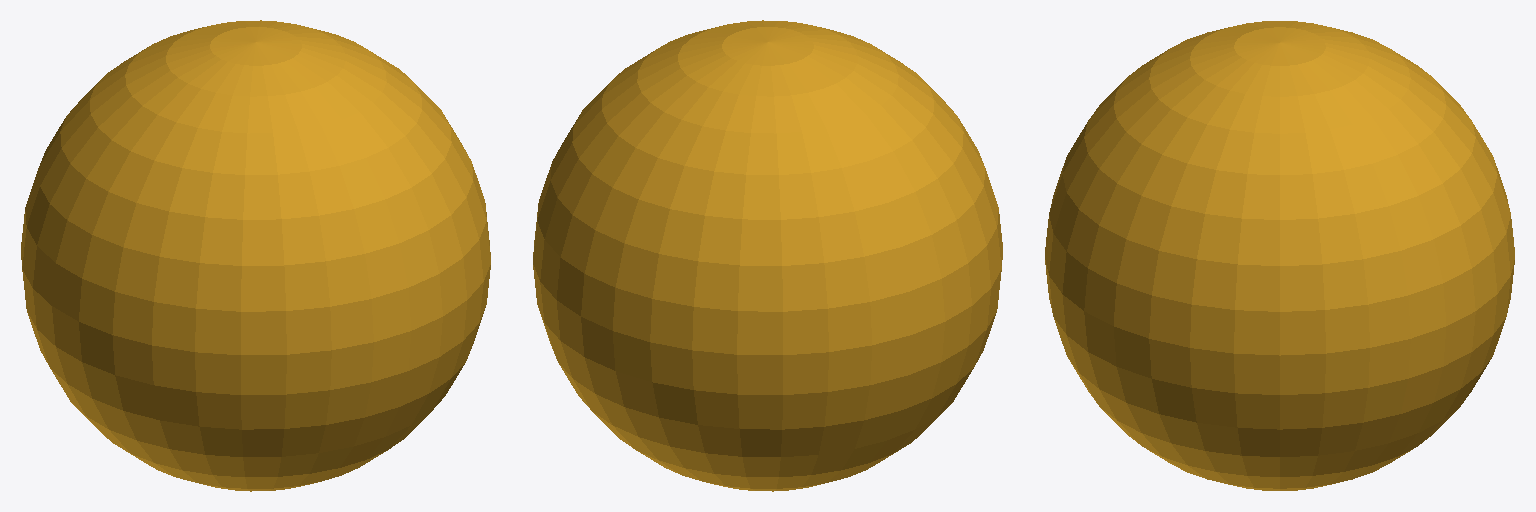
The robot description file, URDF, robot "sphere_75mm":
<?xml version="1.0"?>
<robot name="sphere_75mm">
  <!-- Ideal solid sphere: 75 mm diameter, provisional 50 g mass. -->
  <link name="sphere">
    <inertial>
      <origin xyz="0 0 0" rpy="0 0 0"/>
      <mass value="0.05"/>
      <!-- I = 2/5 * m * r^2, with r = 0.0375 m. -->
      <inertia ixx="0.000028125" ixy="0" ixz="0"
               iyy="0.000028125" iyz="0" izz="0.000028125"/>
    </inertial>
    <visual>
      <origin xyz="0 0 0" rpy="0 0 0"/>
      <geometry>
        <sphere radius="0.0375"/>
      </geometry>
      <material name="sphere_gold">
        <color rgba="0.85 0.65 0.20 1"/>
      </material>
    </visual>
    <collision>
      <origin xyz="0 0 0" rpy="0 0 0"/>
      <geometry>
        <sphere radius="0.0375"/>
      </geometry>
    </collision>
  </link>
</robot>

--- Render facts (derived) ---
3 views of the same robot in one strip: view 1: azimuth 30°, elevation 25°; view 2: azimuth 150°, elevation 25°; view 3: azimuth 270°, elevation 25° (orthographic).
Model sphere_75mm with 1 links and 0 joints (none), rooted at sphere, posed every joint at zero.
Links seen in each view (by area): view 1: sphere; view 2: sphere; view 3: sphere.
Boxes of the visible links, x1=… form: sphere: x1=21, y1=20, x2=490, y2=491; sphere: x1=533, y1=20, x2=1002, y2=491; sphere: x1=1045, y1=21, x2=1514, y2=490.
Bounding box of the posed robot: 0.075 × 0.075 × 0.075 m (x, y, z).
Geometry: primitives only (box / cylinder / sphere), no mesh files.
